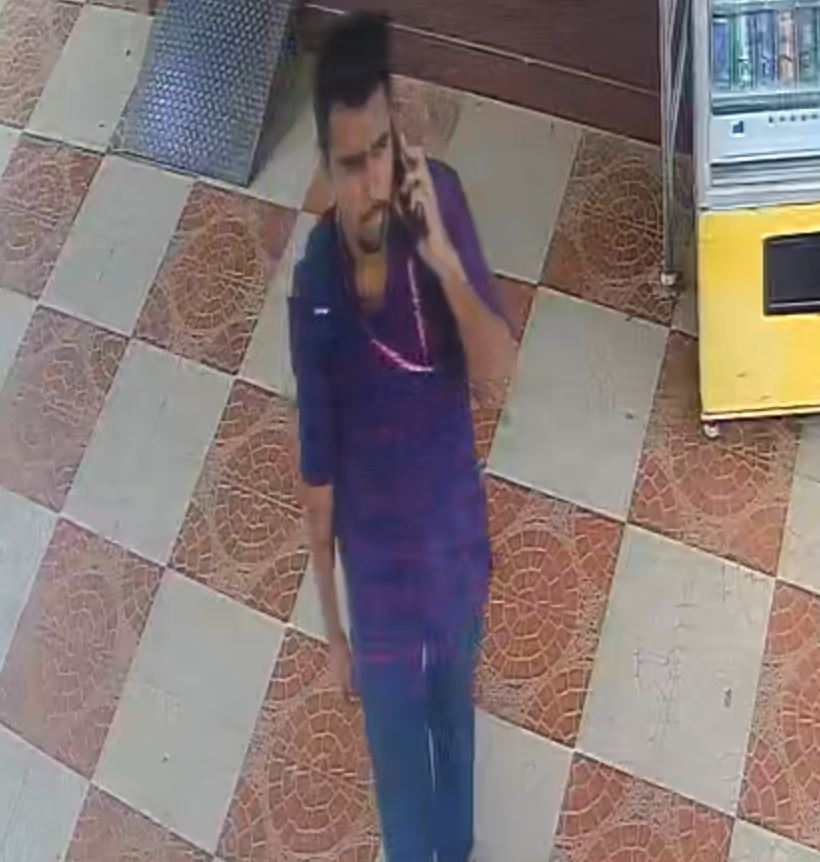intruder: (273, 12, 507, 862)
